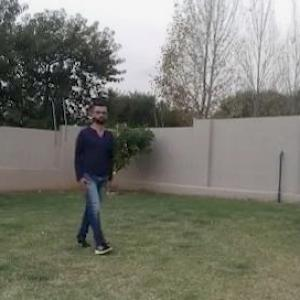follow: (74, 99, 110, 244)
